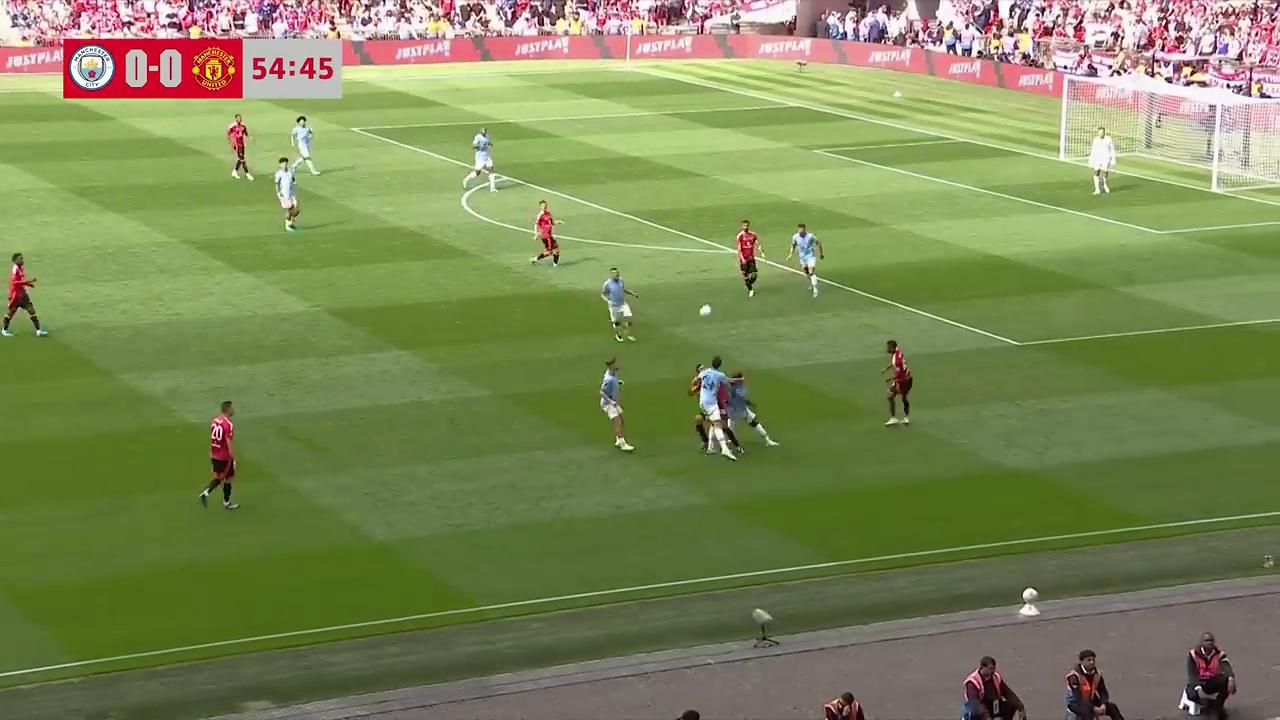ball: (698, 301, 713, 319)
player: (691, 363, 745, 460), (198, 399, 238, 511), (724, 368, 778, 449), (0, 253, 48, 337), (688, 359, 729, 451), (598, 355, 634, 451), (881, 339, 912, 429), (600, 267, 637, 342), (788, 223, 823, 297), (529, 200, 562, 268), (734, 218, 762, 296), (465, 127, 498, 192), (272, 156, 299, 232), (226, 113, 253, 180), (1088, 130, 1115, 195), (291, 115, 319, 176)
referee: (226, 113, 253, 180)
